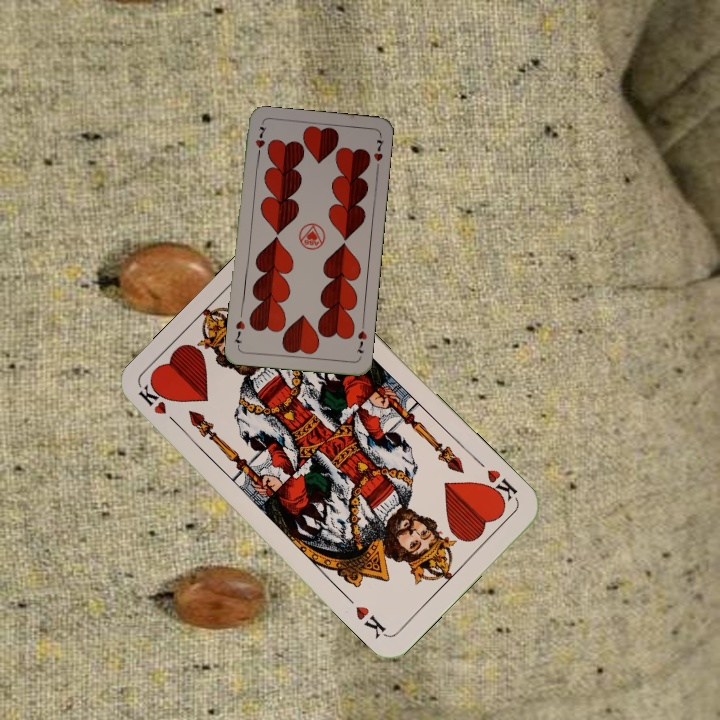H7: (352, 319, 369, 356), (252, 123, 268, 161)
HK: (135, 382, 184, 431), (479, 465, 520, 508)
